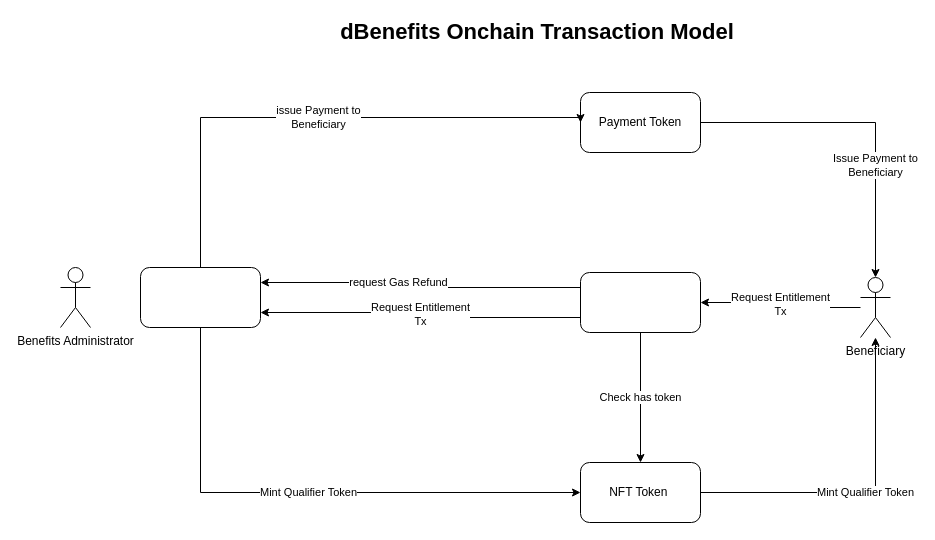
Some shapes in this 935 by 540 pixel diagram are drawn without their labels. Each missing label, with the centre of its shape:
"Benefits Manager" goes at (x=200, y=297).
"Paymaster" goes at (x=640, y=302).
